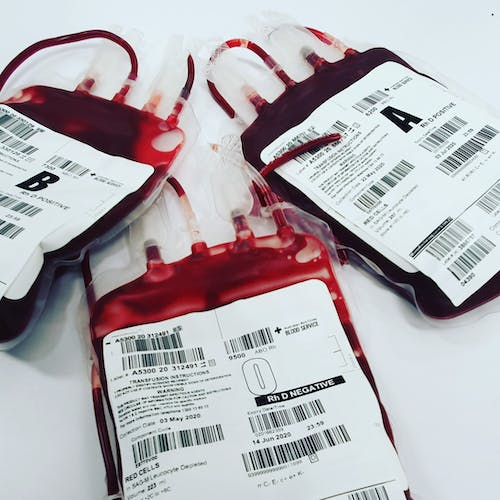blood: (79, 131, 415, 500), (203, 22, 500, 328), (0, 26, 196, 352)
